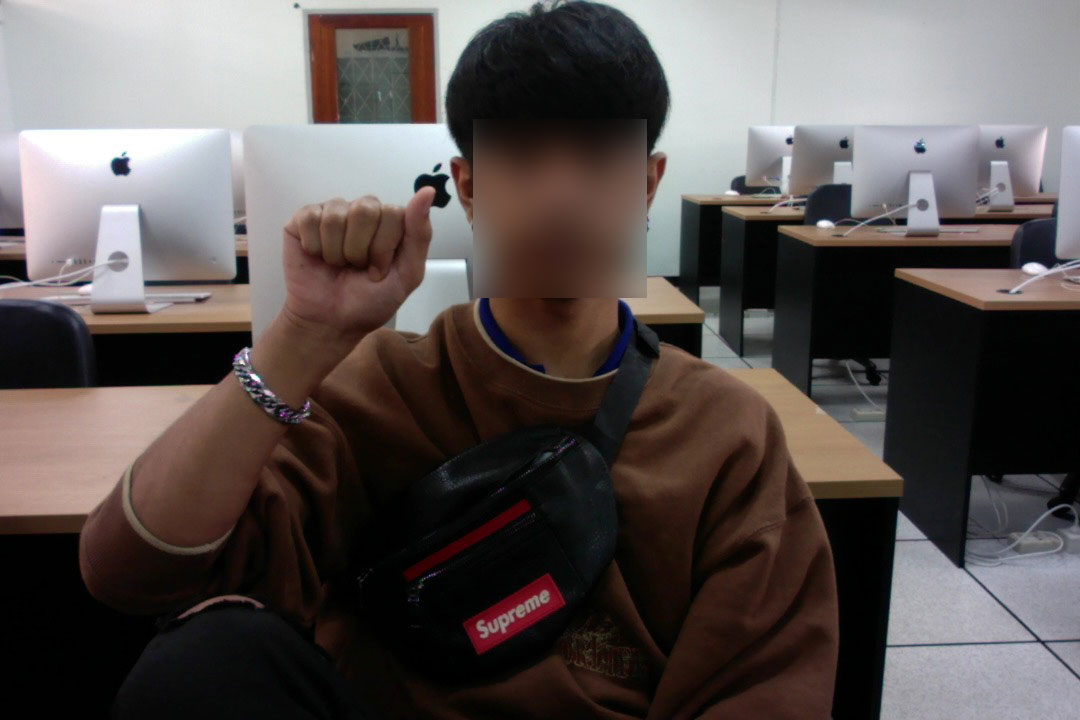or: (265, 181, 443, 353)
